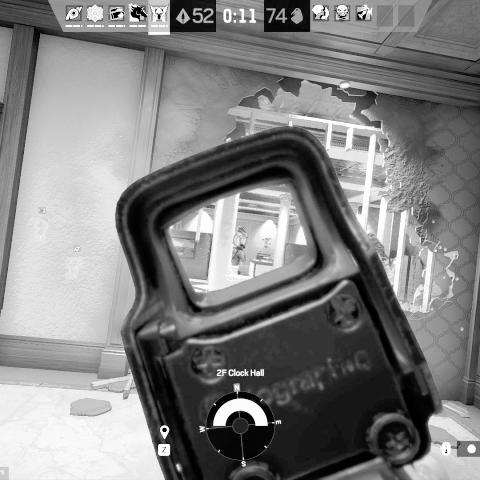Character: (230, 243, 248, 275)
Friend_label: (227, 225, 254, 244), (27, 206, 56, 222), (65, 246, 88, 260)
Head: (238, 243, 246, 250)
